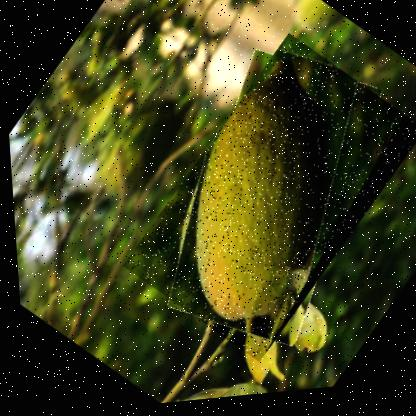lemon: (107, 27, 415, 376)
